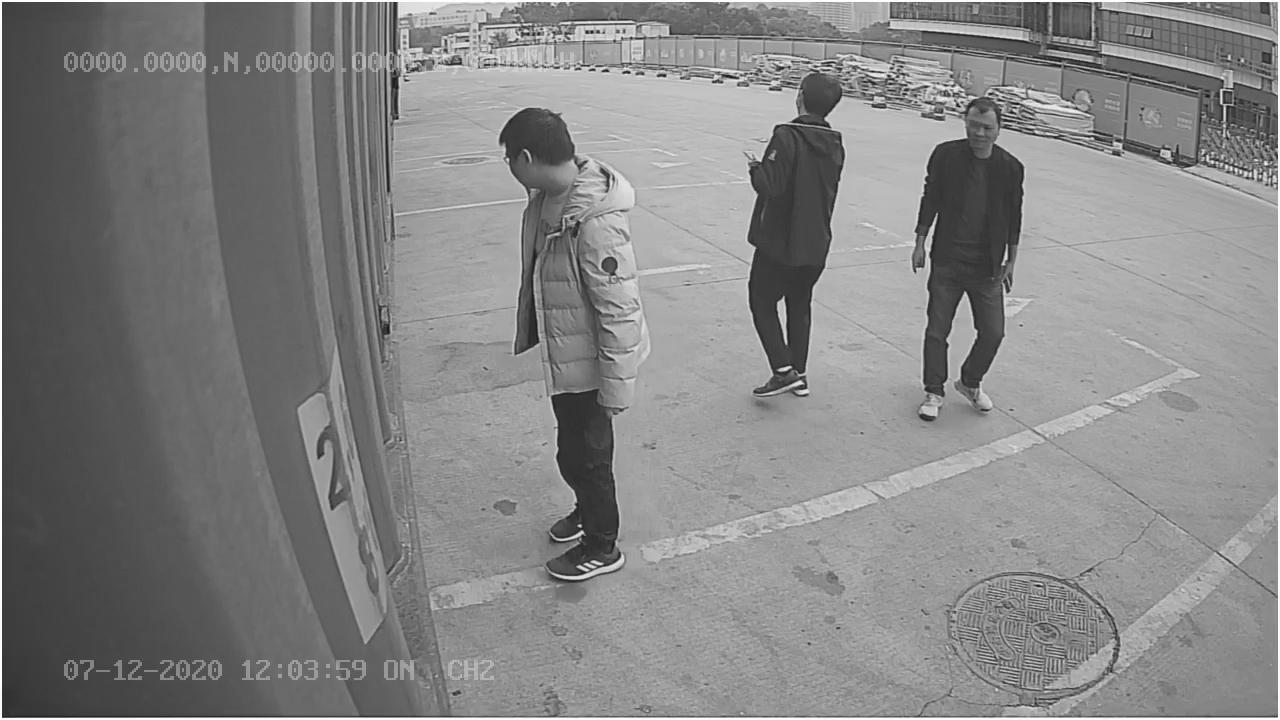person: (487, 102, 654, 586), (732, 62, 853, 405), (910, 98, 1033, 419)
